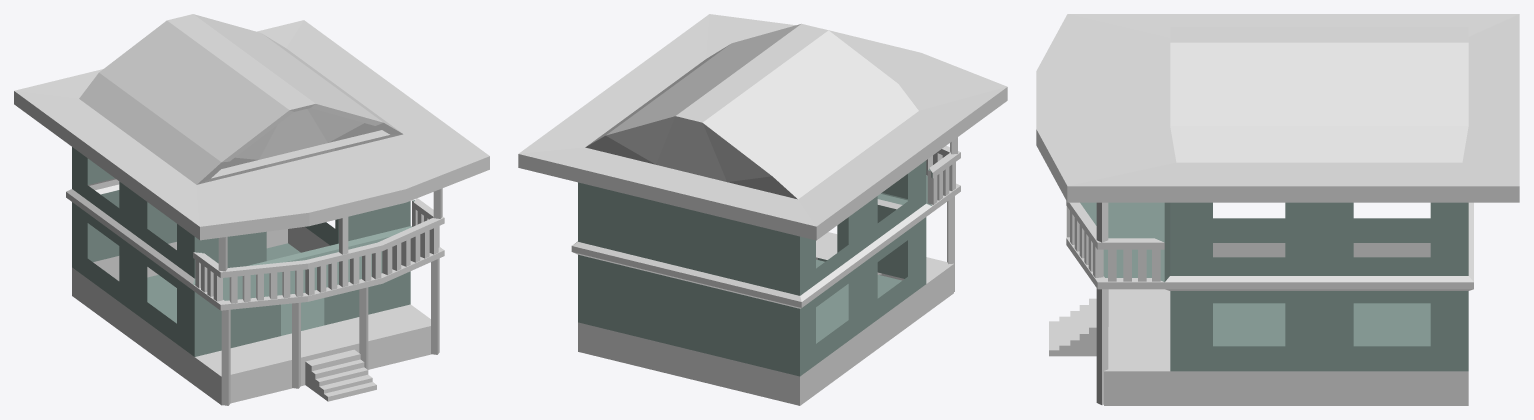
File: House_3_Tiago_TEX.fbx
The picture shows the model from 3 angles, left to right: view 1: azimuth 30°, elevation 25°; view 2: azimuth 150°, elevation 25°; view 3: azimuth 270°, elevation 25°; orthographic projection. The views are drawn at different scales.
Parts seen in each view (by area): view 1: Cube.004; view 2: Cube.004; view 3: Cube.004.
Part boxes in pixels (box(x1,y1,x2,y2)): Cube.004: box(14, 14, 489, 405); Cube.004: box(518, 14, 1007, 405); Cube.004: box(1036, 14, 1519, 405).
Bounding box in the file's own units: 1185 × 986 × 1407.
